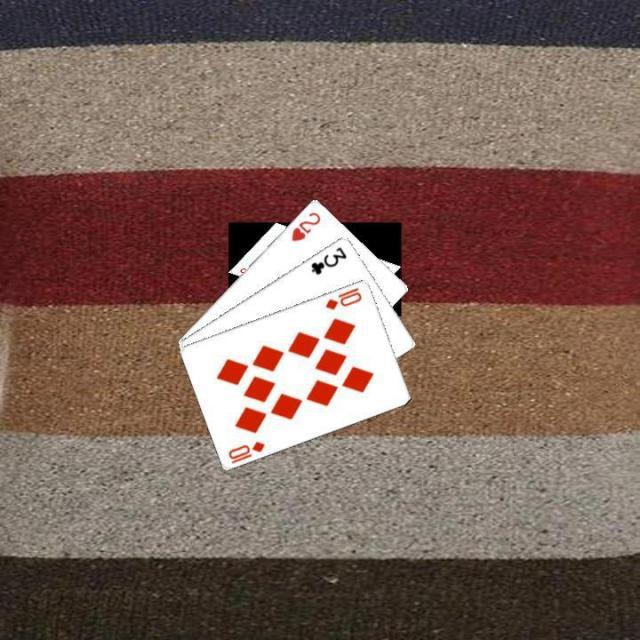10D: (224, 437, 267, 465), (322, 284, 364, 312)
2H: (287, 207, 323, 243)
3C: (306, 242, 348, 276)
